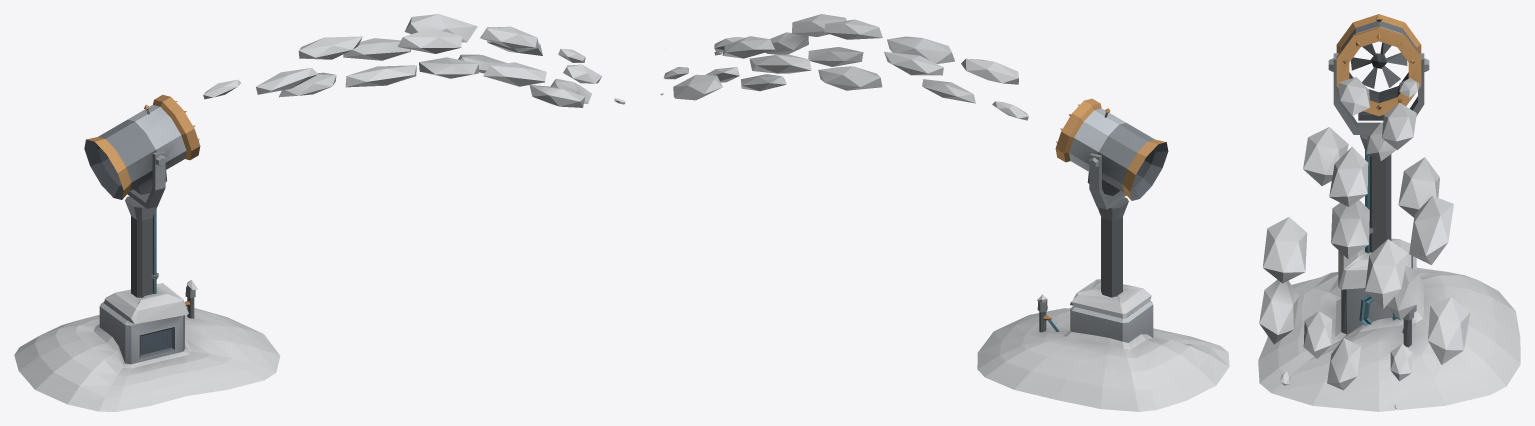
Rendered from cannon.glb.
The picture shows the model from 3 angles, left to right: view 1: azimuth 30°, elevation 25°; view 2: azimuth 150°, elevation 25°; view 3: azimuth 270°, elevation 25°; orthographic projection. The views are drawn at different scales.
Parts seen in each view (by area): view 1: cannon; view 2: cannon; view 3: cannon.
Part boxes in pixels (box(x1,y1,x2,y2)): cannon: box(14, 14, 631, 411); cannon: box(660, 14, 1229, 411); cannon: box(1258, 14, 1520, 411).
Size of the model in its own units: 8.94 by 4.02 by 2.78.
